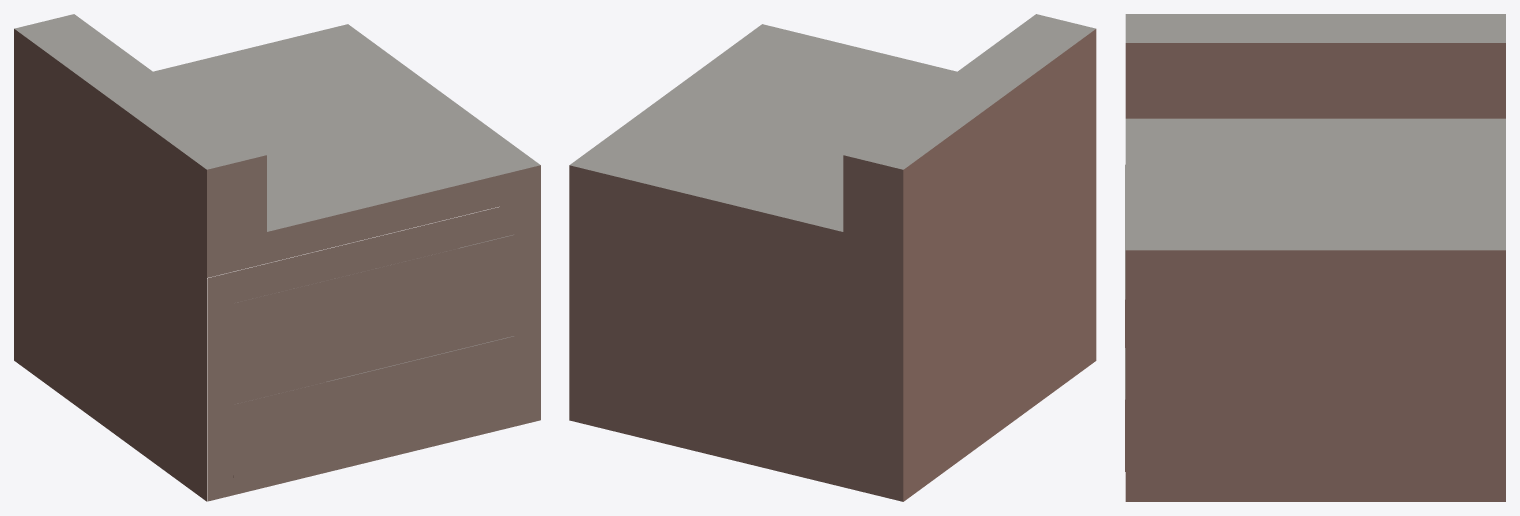
Rendered from townhouse.zfix-v21.lod2.glb.
3 renders of one model, left to right at view 1: azimuth 30°, elevation 25°; view 2: azimuth 150°, elevation 25°; view 3: azimuth 270°, elevation 25°, orthographic.
Visible parts, largest first — view 1: townhouse; view 2: townhouse; view 3: townhouse.
Part boxes in pixels (x1,y1,x2,y2): townhouse: (14,14,540,501); townhouse: (569,14,1096,501); townhouse: (1125,14,1505,501).
Bounding box in the file's own units: 10 × 9.5 × 10.02.
